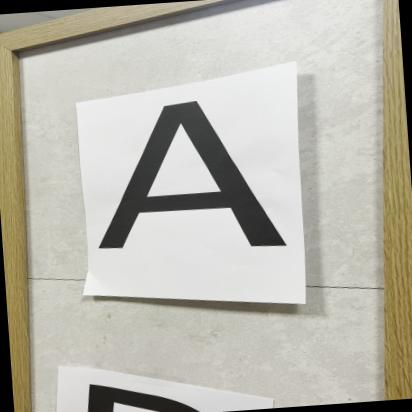seat: (65, 82, 322, 314)
